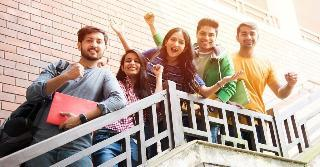person - v3 P: (27, 27, 125, 144), (143, 28, 243, 97), (230, 22, 297, 113), (193, 18, 234, 86), (116, 50, 151, 104)
